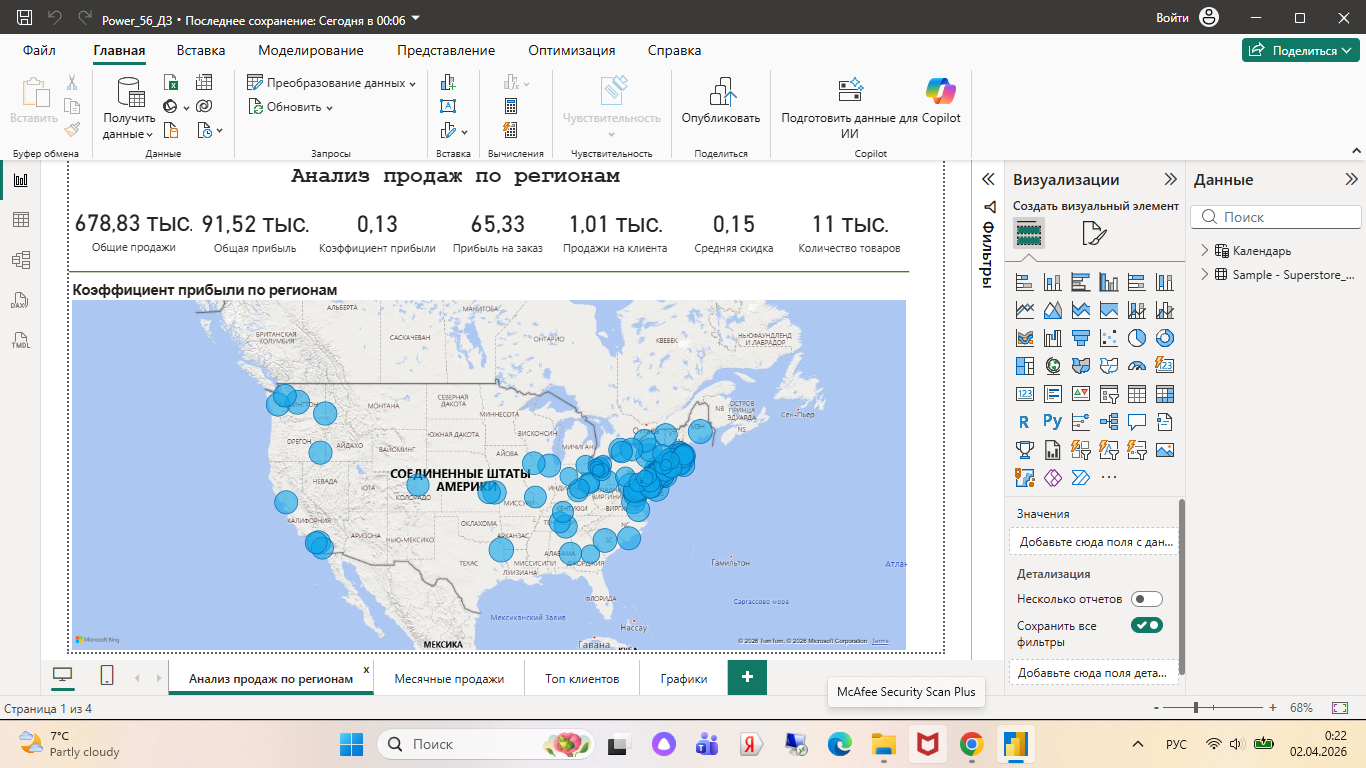

What the dashboard file says about the page in this screenshot:
{"tool":"powerbi","page":{"name":"Анализ продаж по регионам","canvas":[1280,720],"ordinal":0},"visuals":[{"type":"card","fields":{"Values":["Sample - Superstore_Orders.Общие продажи"]},"box":[0,50.4,189.8,100.8],"z":0},{"type":"card","fields":{"Values":["Sample - Superstore_Orders.Общая прибыль"]},"box":[180.6,50.4,184.8,102.5],"z":1000},{"type":"card","fields":{"Values":["Sample - Superstore_Orders.Коэффициент прибыли"]},"box":[356.1,50.4,191.5,102.5],"z":2000},{"type":"card","fields":{"Values":["Sample - Superstore_Orders.Прибыль на заказ"]},"box":[538.4,50.4,178.1,102.5],"z":3000},{"type":"card","fields":{"Values":["Sample - Superstore_Orders.Продажи на клиента"]},"box":[707.2,50.4,184.8,102.5],"z":4000},{"type":"card","fields":{"Values":["Sample - Superstore_Orders.Средняя скидка"]},"box":[882.7,50.4,181.4,102.5],"z":5000},{"type":"card","fields":{"Values":["Sample - Superstore_Orders.Количество товаров"]},"box":[1054.9,50.4,174.7,102.5],"z":6000},{"type":"map","title":"Коэффициент прибыли по регионам","fields":{"Size":["Sample - Superstore_Orders.Коэффициент прибыли"],"Category":["Sample - Superstore_Orders.Region","Sample - Superstore_Orders.Country/Region","Sample - Superstore_Orders.City"]},"box":[0,178.1,1229.6,542.6],"z":7000},{"type":"shape","box":[0,132.7,1229.6,60.5],"z":8000},{"type":"textbox","box":[240.2,0,651.8,60.5],"z":9000}]}

Visuals, with their boxes on the page's 1280x720 design canvas (x1, y1, x2, y2). These are canvas units, not pixel positions in the 1366x768 screenshot, which may show the page scaled, cropped or inside an application window:
card - Sample - Superstore_Orders.Общие продажи: <region>0, 50, 190, 151</region>
card - Sample - Superstore_Orders.Общая прибыль: <region>181, 50, 365, 153</region>
card - Sample - Superstore_Orders.Коэффициент прибыли: <region>356, 50, 548, 153</region>
card - Sample - Superstore_Orders.Прибыль на заказ: <region>538, 50, 716, 153</region>
card - Sample - Superstore_Orders.Продажи на клиента: <region>707, 50, 892, 153</region>
card - Sample - Superstore_Orders.Средняя скидка: <region>883, 50, 1064, 153</region>
card - Sample - Superstore_Orders.Количество товаров: <region>1055, 50, 1230, 153</region>
"Коэффициент прибыли по регионам" map: <region>0, 178, 1230, 721</region>
shape: <region>0, 133, 1230, 193</region>
textbox: <region>240, 0, 892, 60</region>
